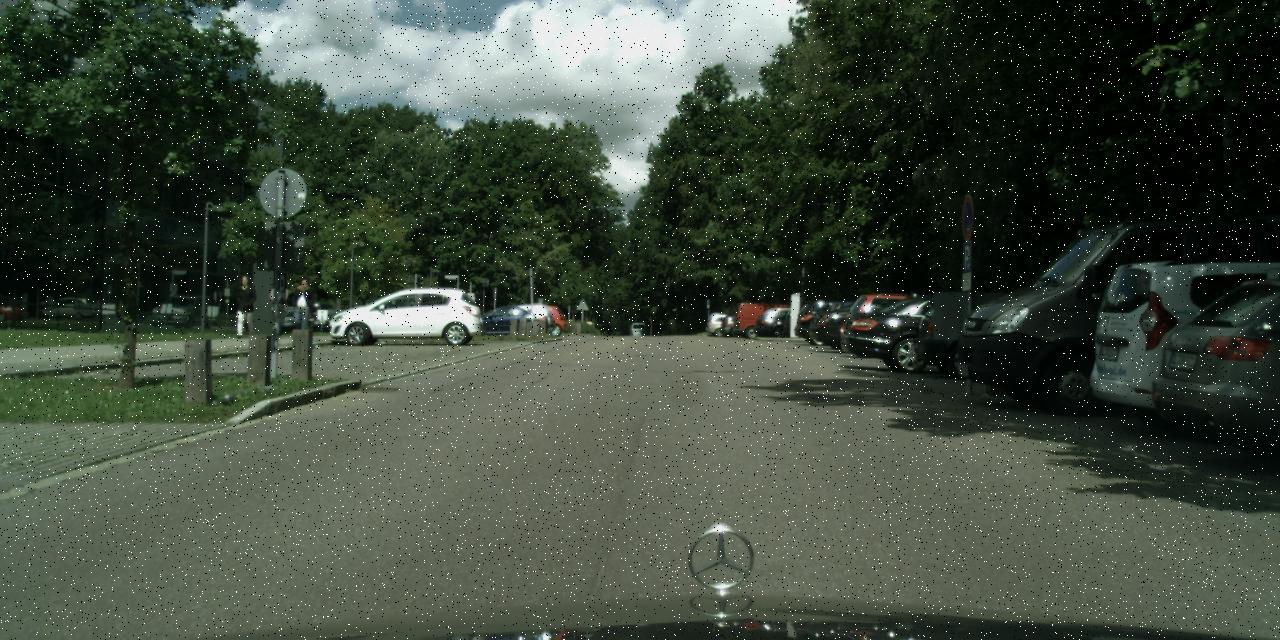ped: (290, 279, 316, 345), (233, 274, 258, 338)
